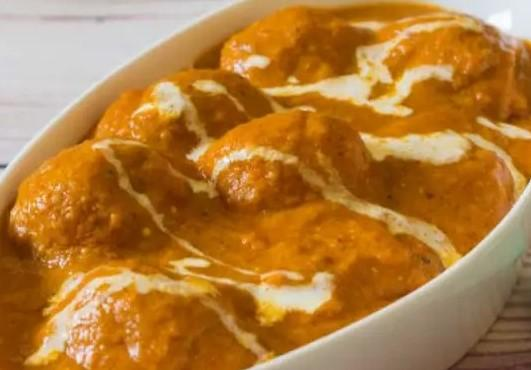DumAloo: (3, 1, 531, 370)
